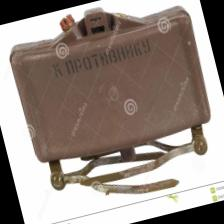MOH-50: (1, 0, 219, 196)
